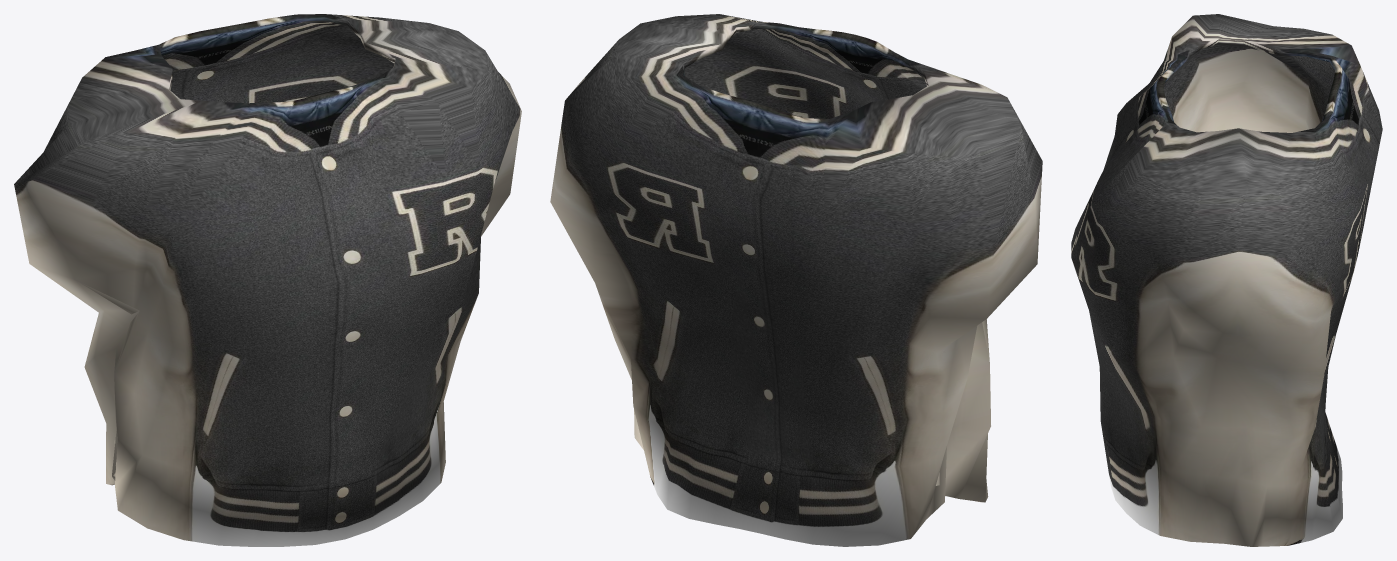
File: dff0d2a9-1317-411c-983c-0fe5001b322d.glb
The picture shows the model from 3 angles, left to right: view 1: azimuth 30°, elevation 25°; view 2: azimuth 150°, elevation 25°; view 3: azimuth 270°, elevation 25°; orthographic projection. The views are drawn at different scales.
Visible parts, largest first — view 1: garment; view 2: garment; view 3: garment.
Boxes of the visible parts, box(x1,y1,x2,y2) form: garment: box(14, 14, 521, 546); garment: box(550, 14, 1042, 546); garment: box(1071, 14, 1382, 546).
Bounding box in the file's own units: 0.5455 × 0.4806 × 0.3361.
1 material, 1 textured.
